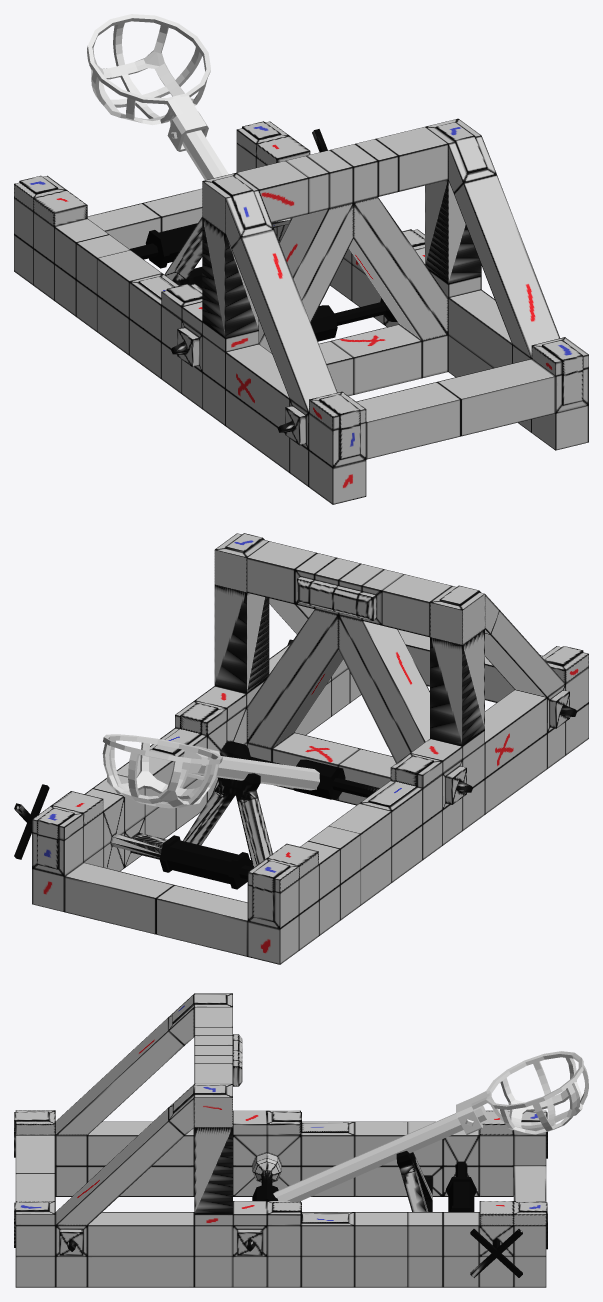
Rendered from catapult.fbx.
3 views of the same model, one above another, from view 1: azimuth 30°, elevation 25°; view 2: azimuth 150°, elevation 25°; view 3: azimuth 270°, elevation 25° (orthographic). The views are drawn at different scales.
Parts seen in each view (by area): view 1: Cube, Circle; view 2: Cube, Circle; view 3: Cube, Circle.
Boxes of the visible parts, <box> form: Cube: <box>14,118,588,504</box>; Circle: <box>87,14,228,180</box>; Cube: <box>14,533,588,964</box>; Circle: <box>102,734,319,808</box>; Cube: <box>14,993,547,1287</box>; Circle: <box>273,1051,588,1200</box>.
Bounding box in the file's own units: 583 × 415 × 1130.
